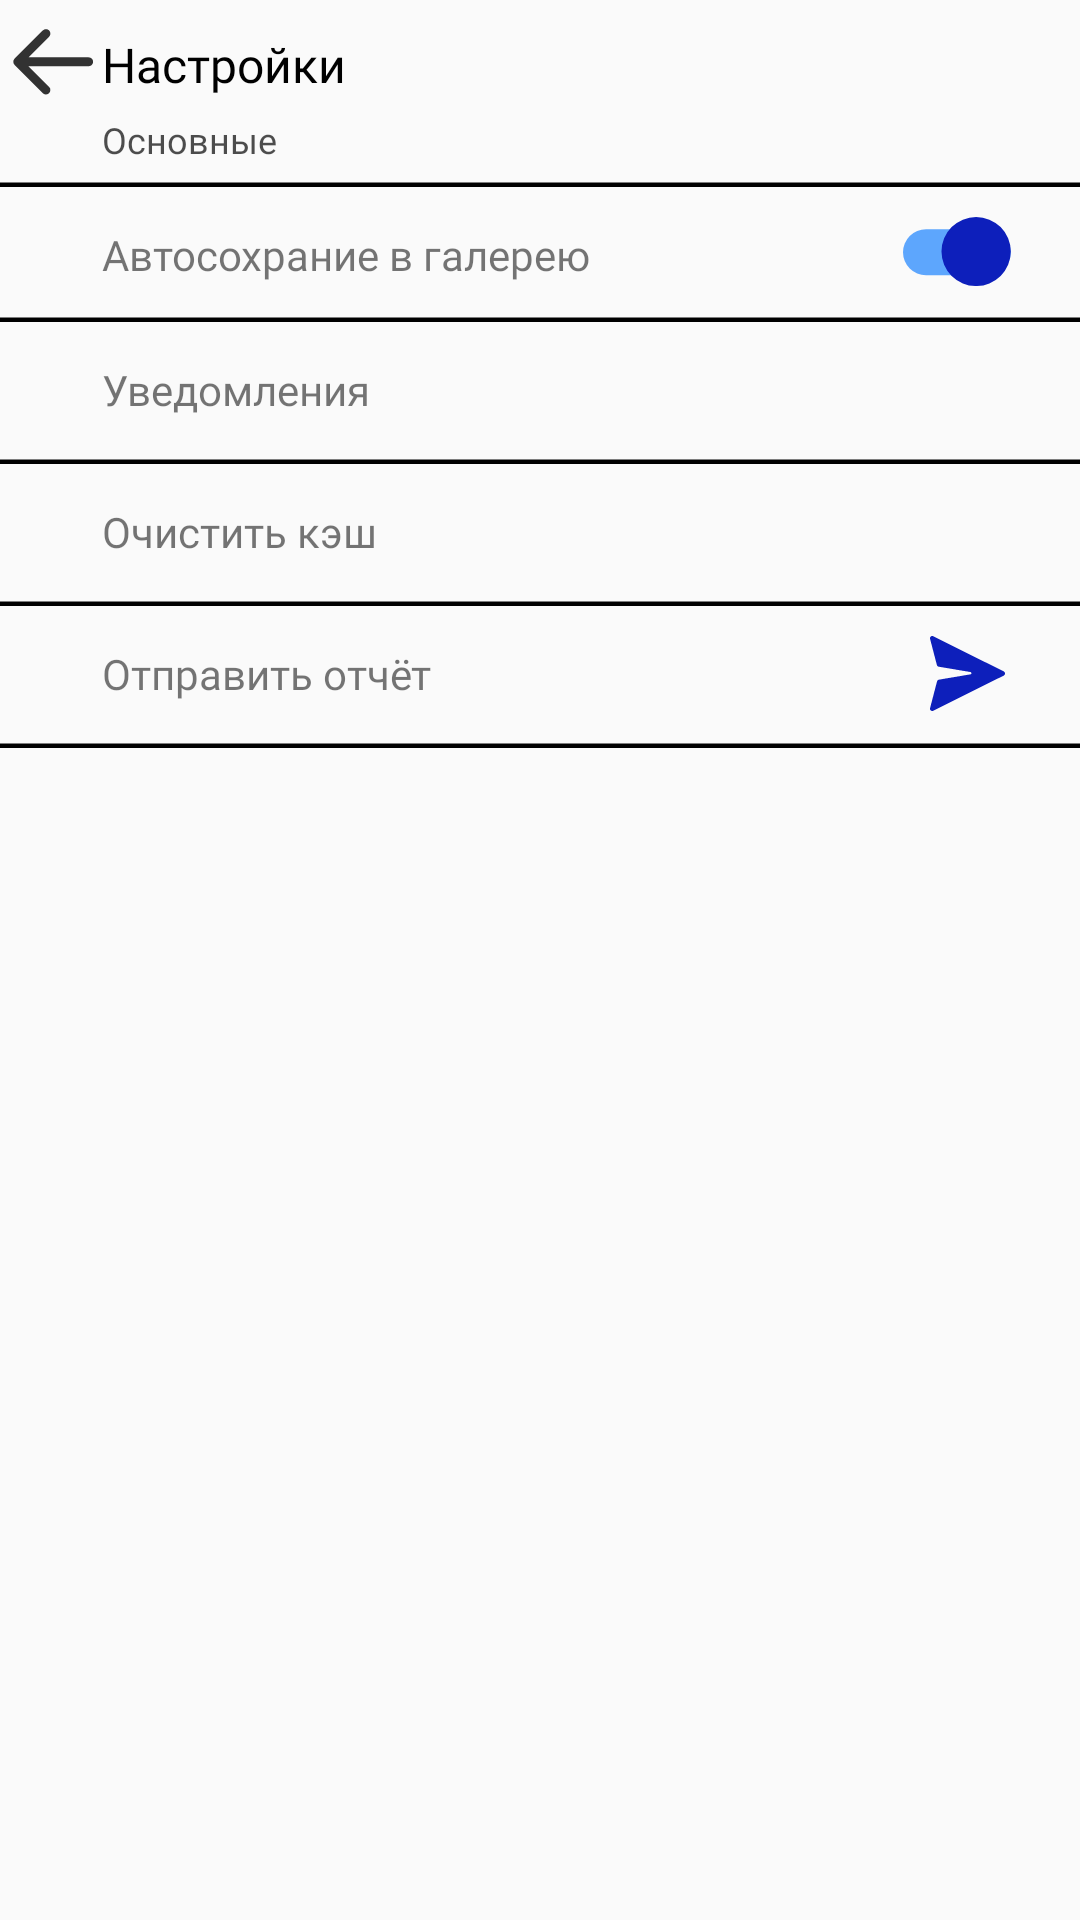

Point at icon controls on the screen. Image size 1080w x 1920h, points as [x,y].
arrow: [53,62]
message: [967,673]
